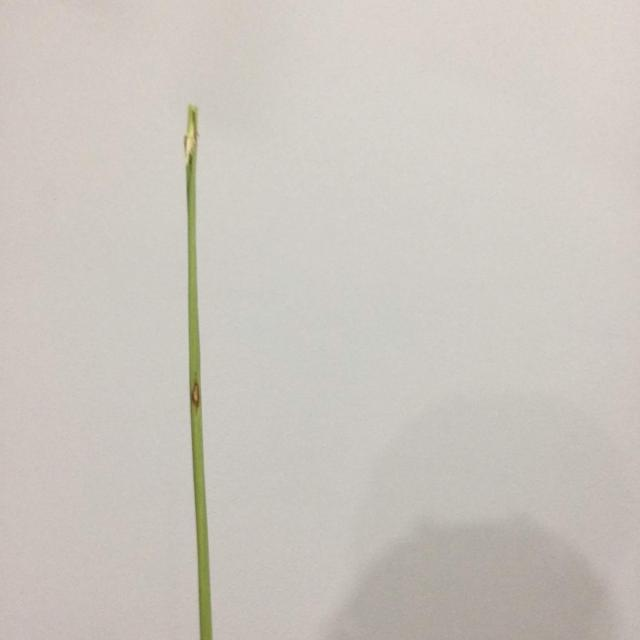Blast: (189, 378, 203, 407)
